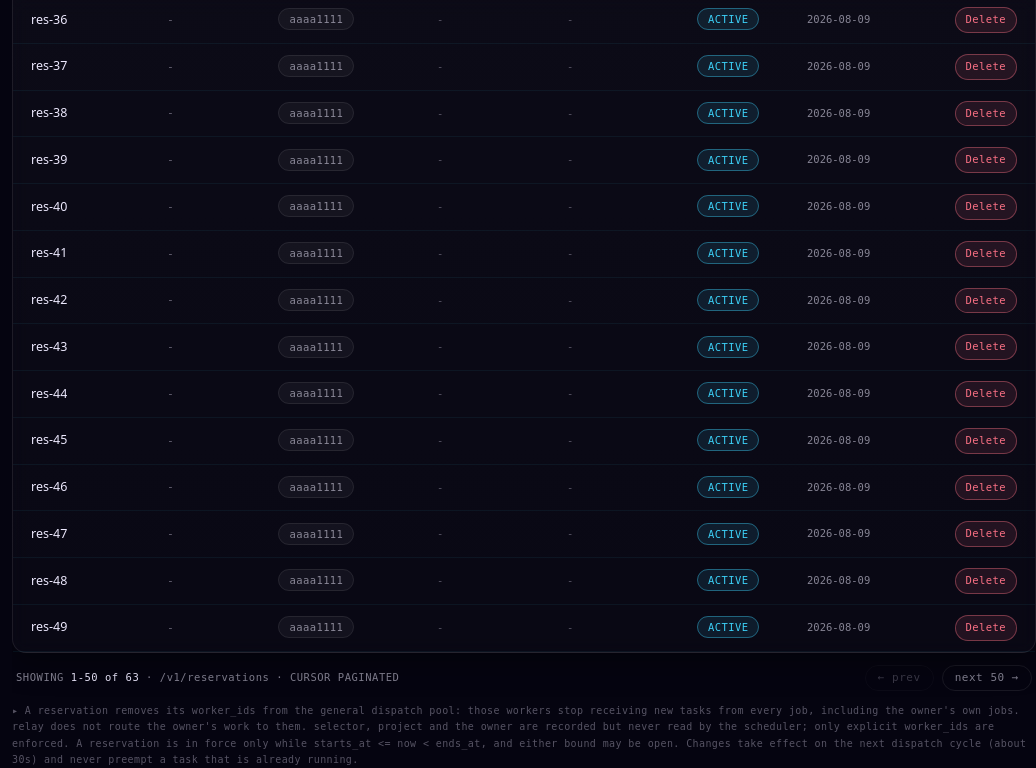
Test: pagination footer shows the correct absolute range on a partial last page
(page scrolled)
Expected: the text "1-50 of 63" is shown, x1=71 y1=671 x2=139 y2=683
Step 1. Click the button "next 50 →" → (987, 678), box x1=942 y1=664 x2=1032 y2=691
(page scrolled)
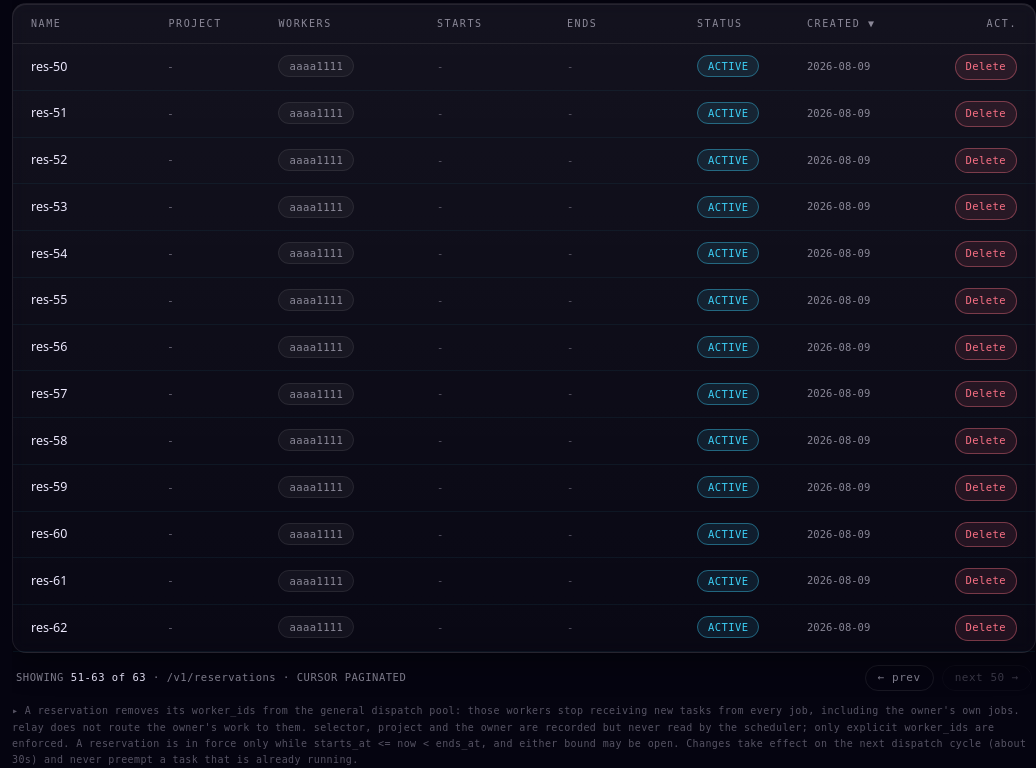
Result: the text "res-50" is shown at x1=31 y1=58 x2=67 y2=76
Result: the text "51-63 of 63" is shown at x1=71 y1=671 x2=146 y2=683
Step 2. Click the button "← prev" → (899, 678), box x1=865 y1=665 x2=934 y2=691
(page scrolled)
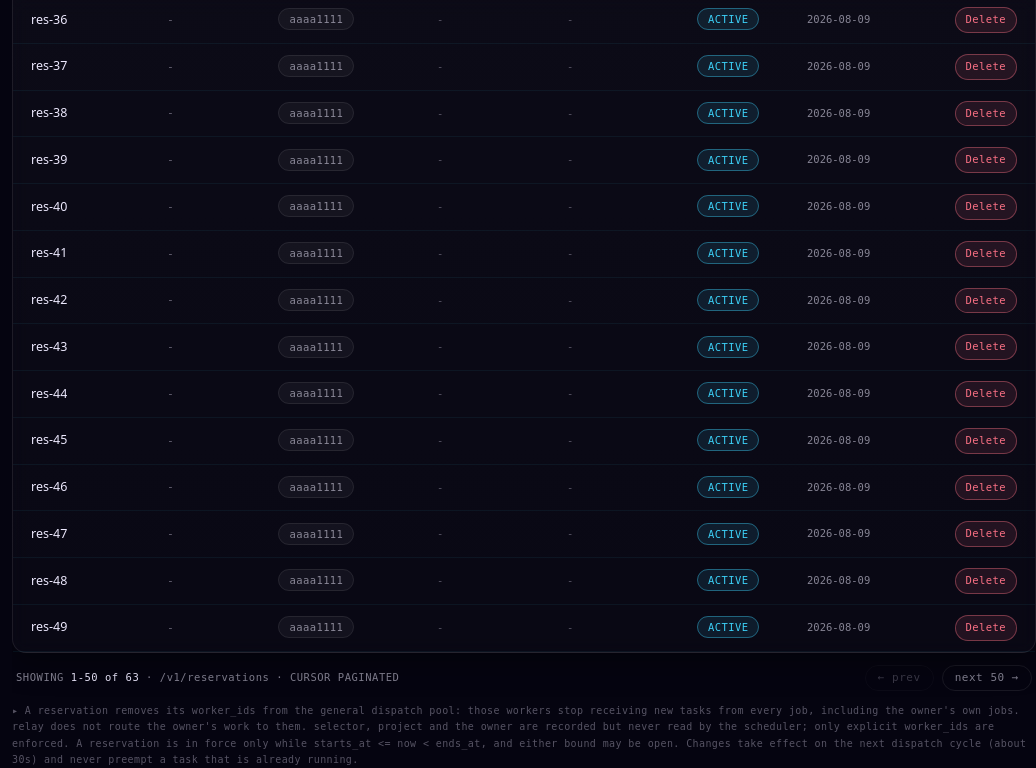
Result: the text "1-50 of 63" is shown at x1=71 y1=671 x2=139 y2=683
